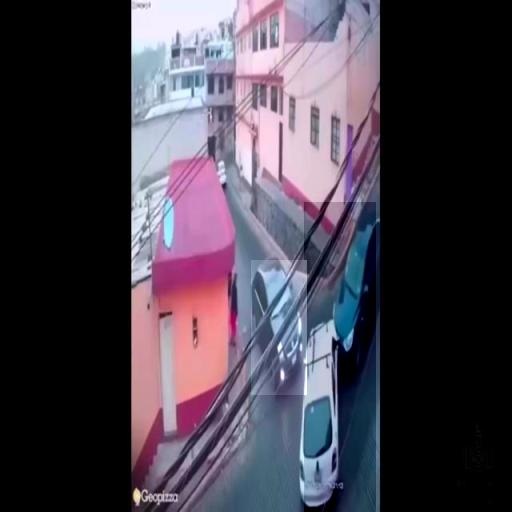小汽车: (251, 260, 307, 395)
小汽车撞小汽车: (304, 202, 376, 512)
